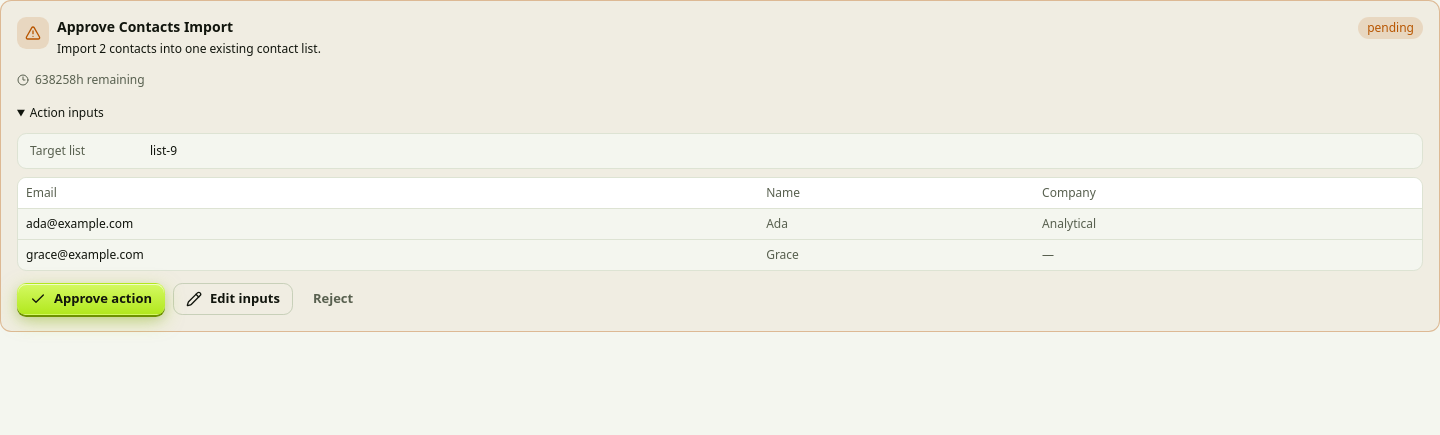
it: ApprovalCard › rejects an invalid email in an edited import without submitting
Click the button "Edit inputs".
click(233, 299)  # box [173, 283, 293, 315]
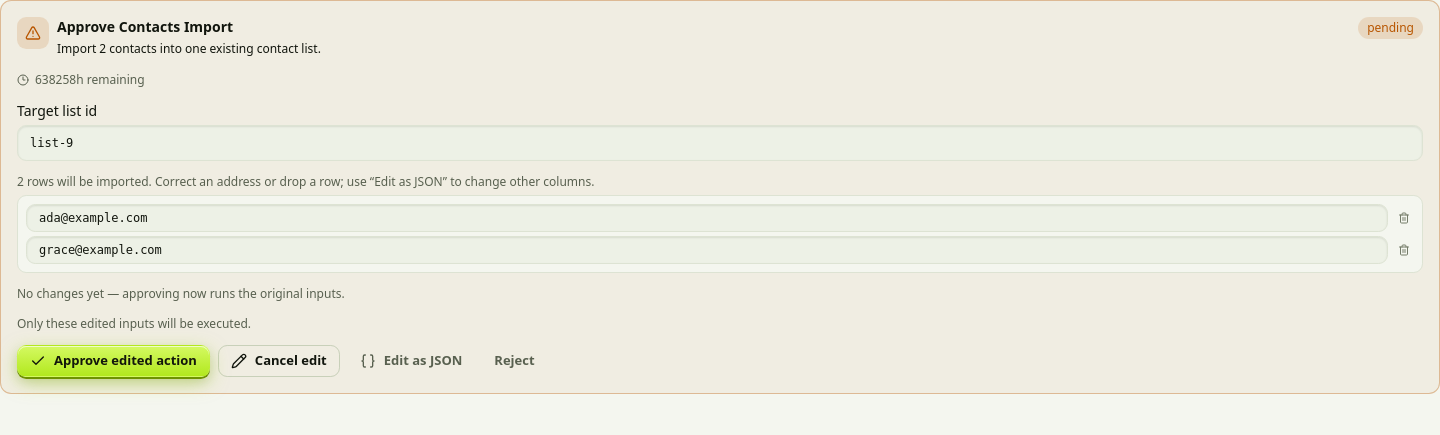
Replace the text in the field named "Email for row 2" with "not-an-email" at (707,250), box [26, 236, 1388, 264]
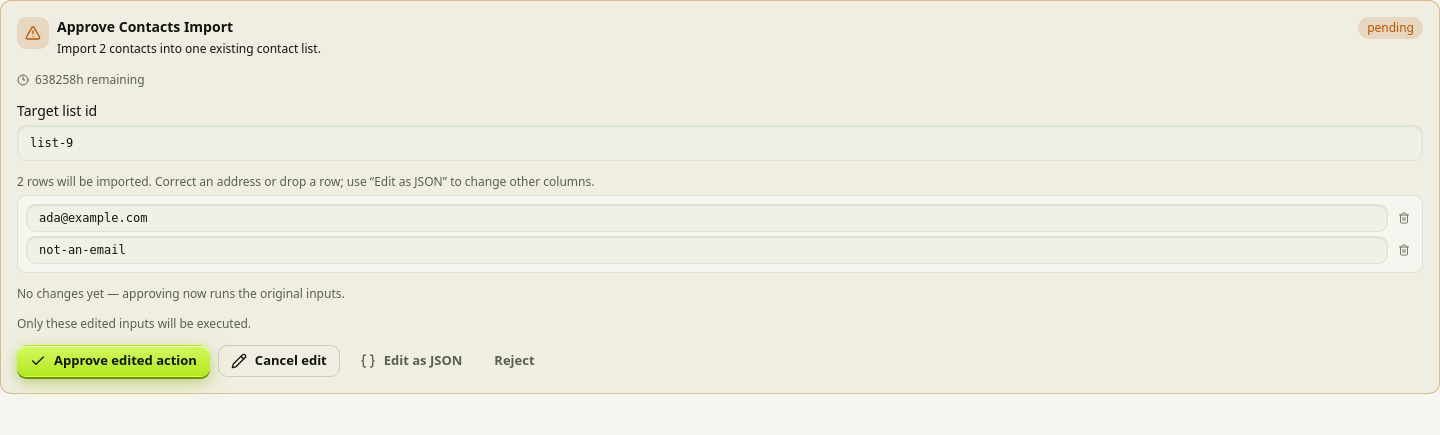
Click the button "Approve edited action".
click(113, 361)  # box [17, 345, 210, 377]
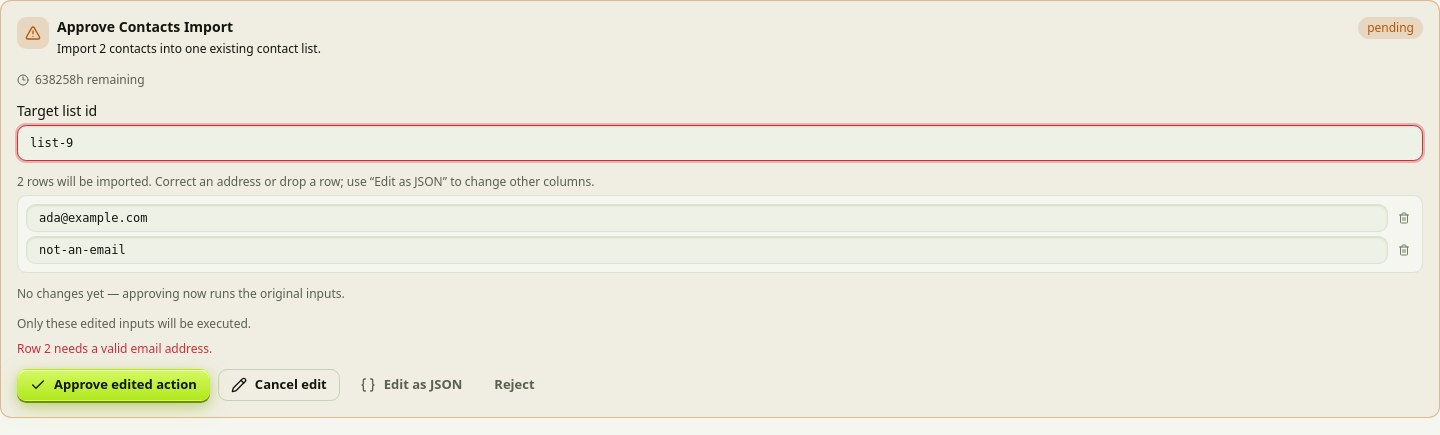
expect the message reads "Row 2 needs a valid email address.": met, box [17, 340, 212, 357]
